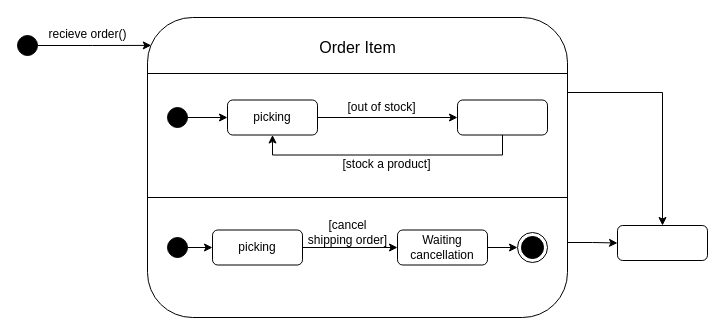
This 725x335 diagram has some shape labels left out. The shapes that lost their labels are listed below. From the top down, each one's box as (x1, y1, x2, y2) in pixels, then its label:
(456, 99, 548, 135): Waiting backorder
(616, 224, 708, 260): Complete picking
